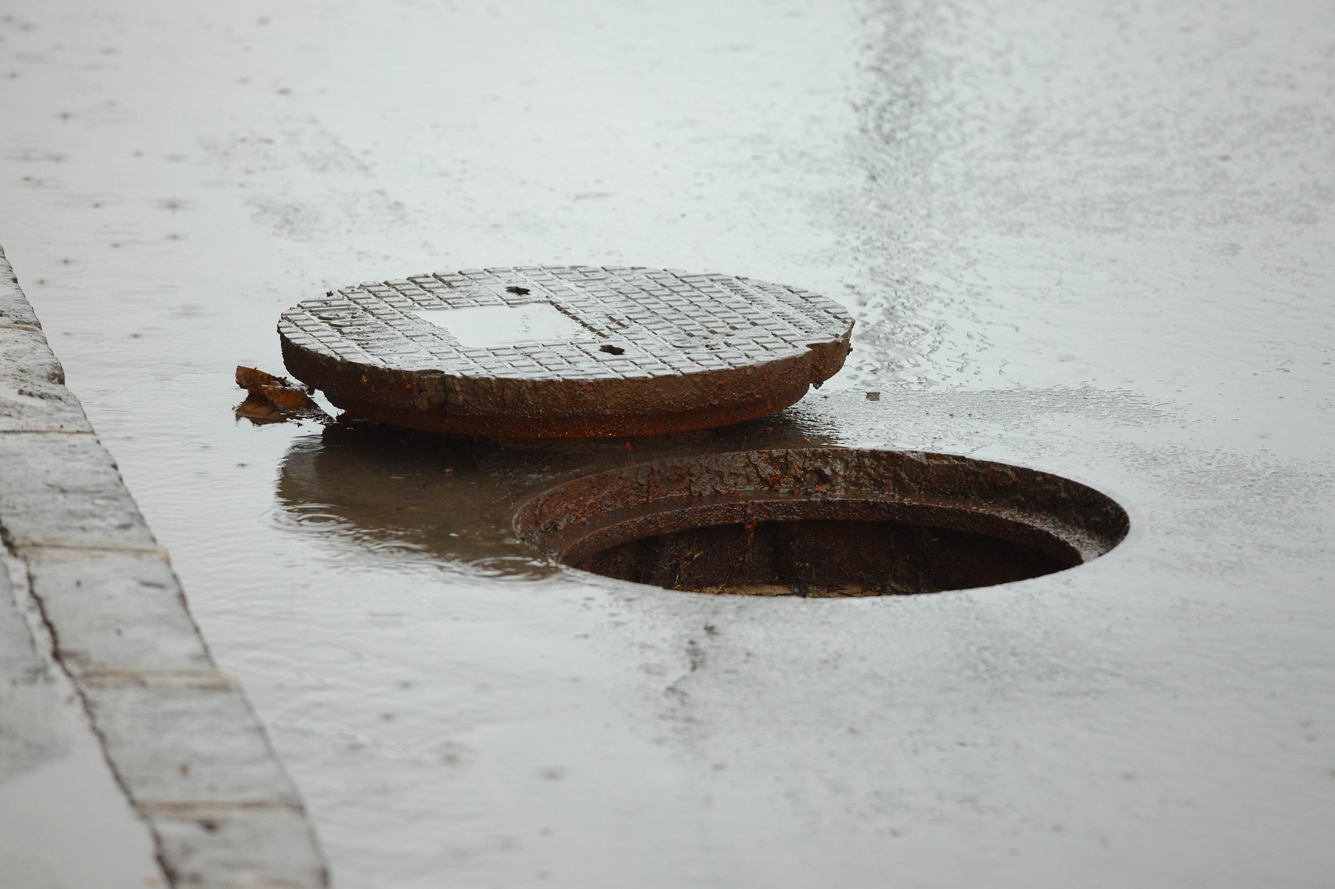Open_manhole: (224, 237, 1152, 672)
